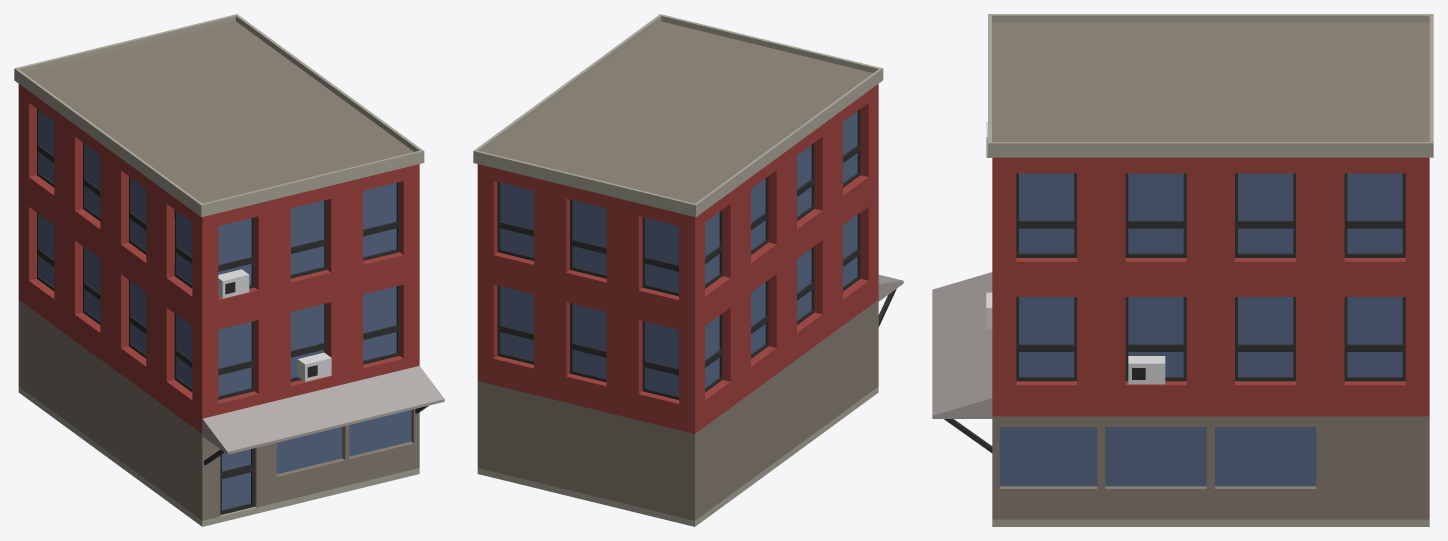
File: GenericShop_v1.fbx
3 views of the same model, side by side, from view 1: azimuth 30°, elevation 25°; view 2: azimuth 150°, elevation 25°; view 3: azimuth 270°, elevation 25° (orthographic). The views are drawn at different scales.
Parts seen in each view (by area): view 1: GenericShop; view 2: GenericShop; view 3: GenericShop.
Part boxes in pixels (x1,y1,x2,y2): GenericShop: [14, 14, 444, 526]; GenericShop: [473, 14, 903, 526]; GenericShop: [932, 14, 1433, 526].
Size of the model in its own units: 670 by 923 by 1089.
